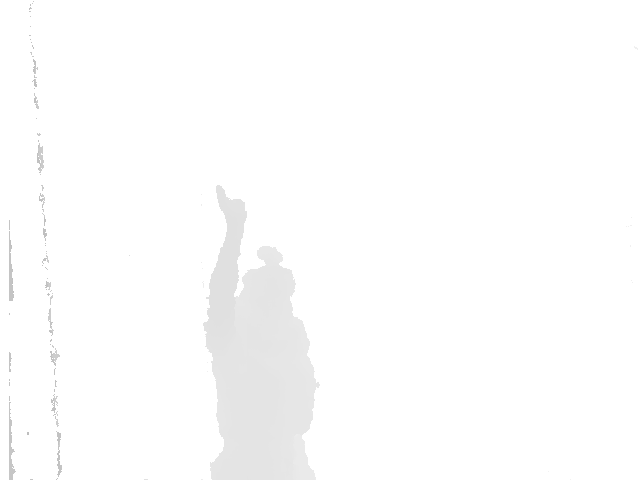hand: (212, 183, 250, 226)
head: (241, 248, 297, 311)
person: (205, 181, 319, 480)
